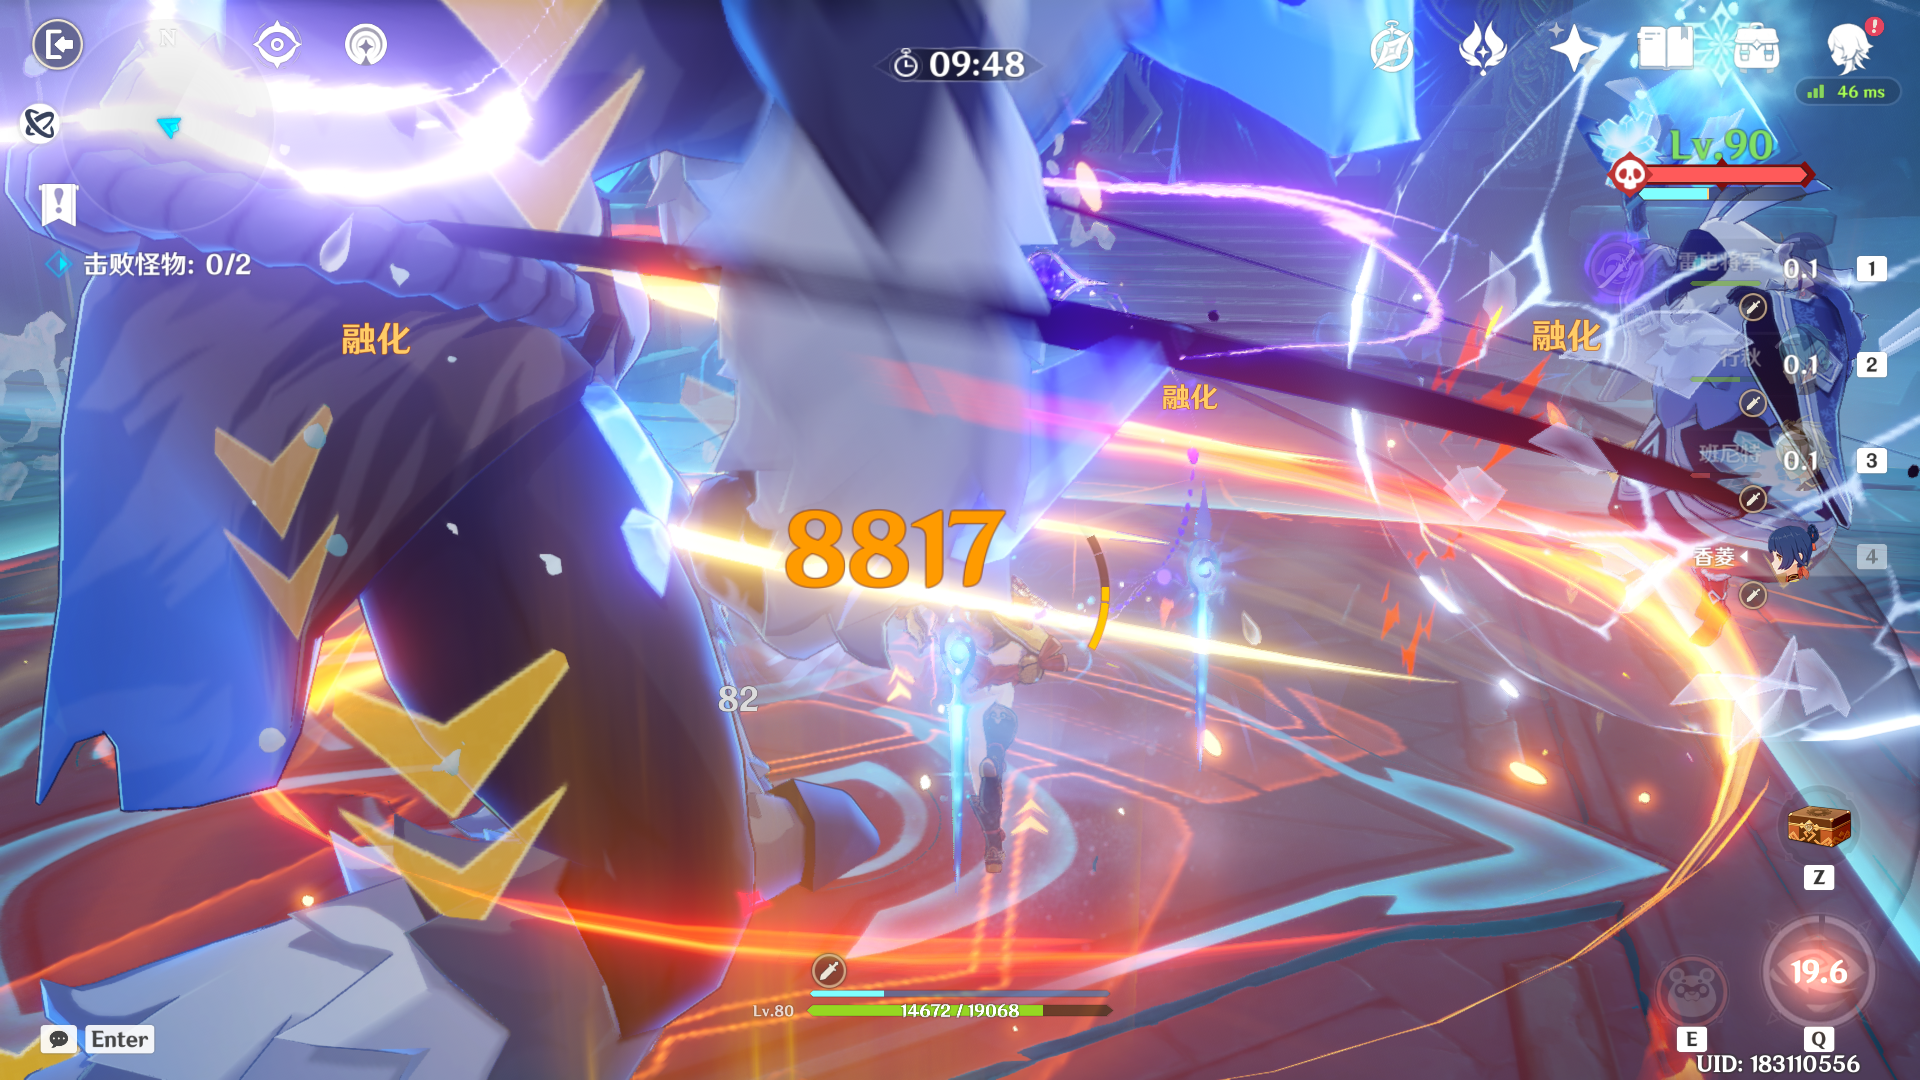caster: (1527, 171, 1898, 632)
